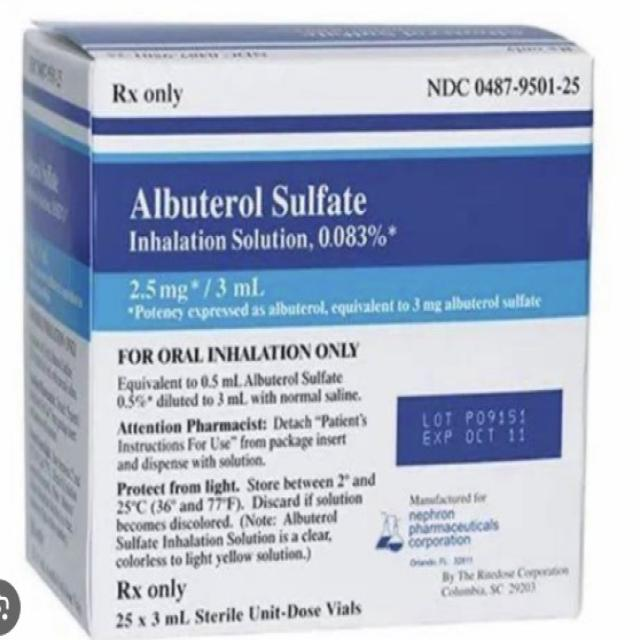Medicine-name: (129, 179, 375, 222)
